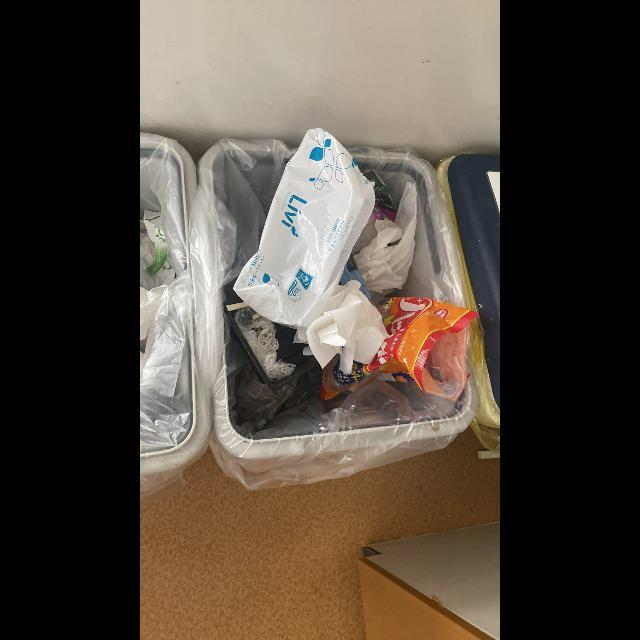food_wrapper: (233, 128, 376, 331), (320, 297, 478, 402)
paper: (294, 280, 391, 375), (353, 182, 417, 305)
